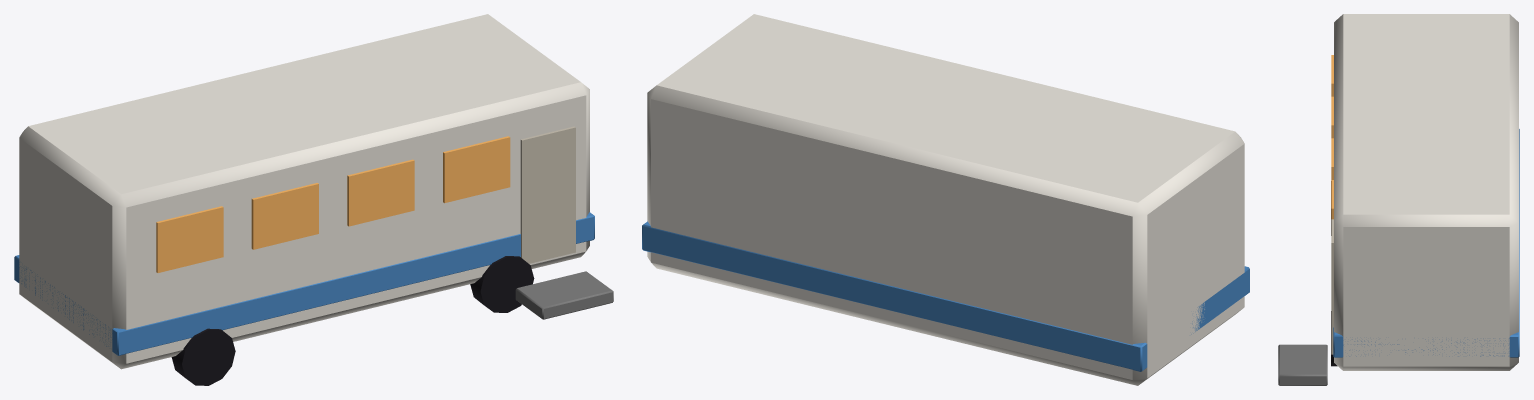
Rendered from makeup_trailer.glb.
3 views of the same model, side by side, from view 1: azimuth 30°, elevation 25°; view 2: azimuth 150°, elevation 25°; view 3: azimuth 270°, elevation 25° (orthographic). The views are drawn at different scales.
Visible parts, largest first — view 1: makeup_trailer; view 2: makeup_trailer; view 3: makeup_trailer.
Boxes of the visible parts, x1,y1,x2,y2 form: makeup_trailer: [14, 14, 613, 385]; makeup_trailer: [642, 14, 1249, 385]; makeup_trailer: [1278, 14, 1519, 385].
Size of the model in its own units: 8 by 3.3 by 3.91.
